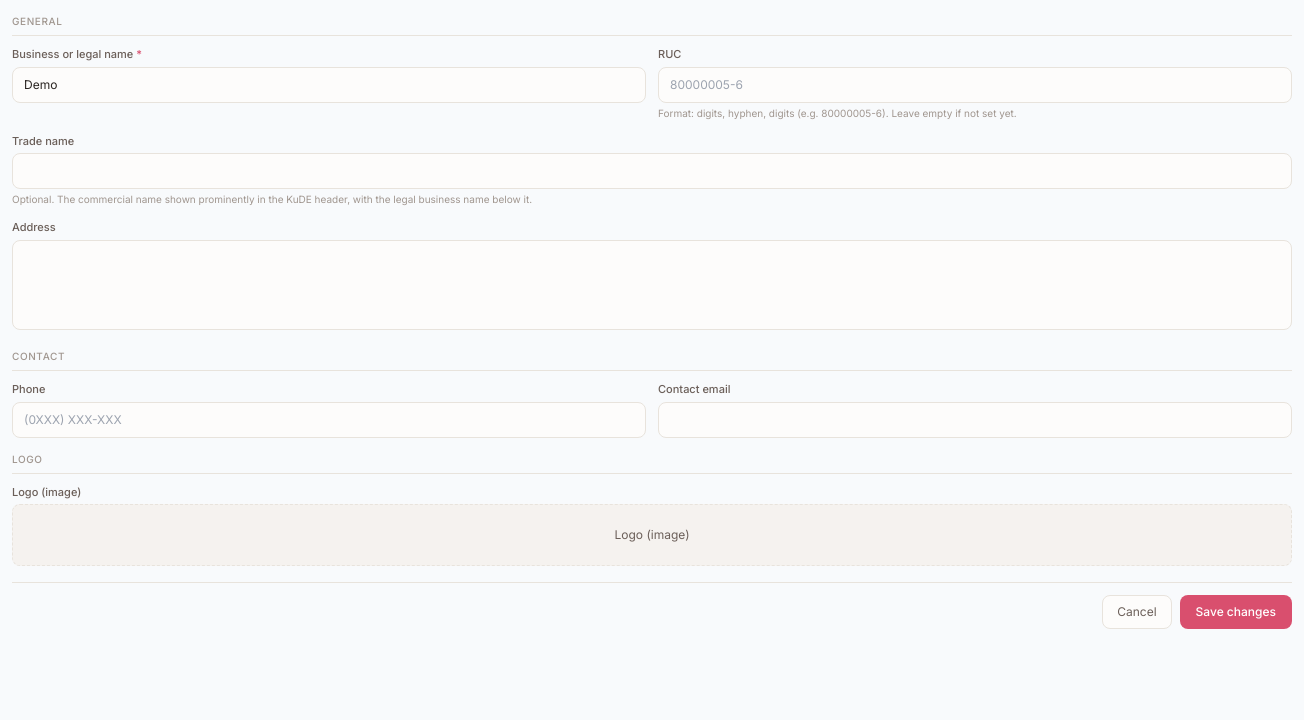
BusinessSettingsPage › formats the phone field with the Paraguay mask while typing
Click the field labelled "Phone".
click(329, 420)  # box [12,402,646,438]
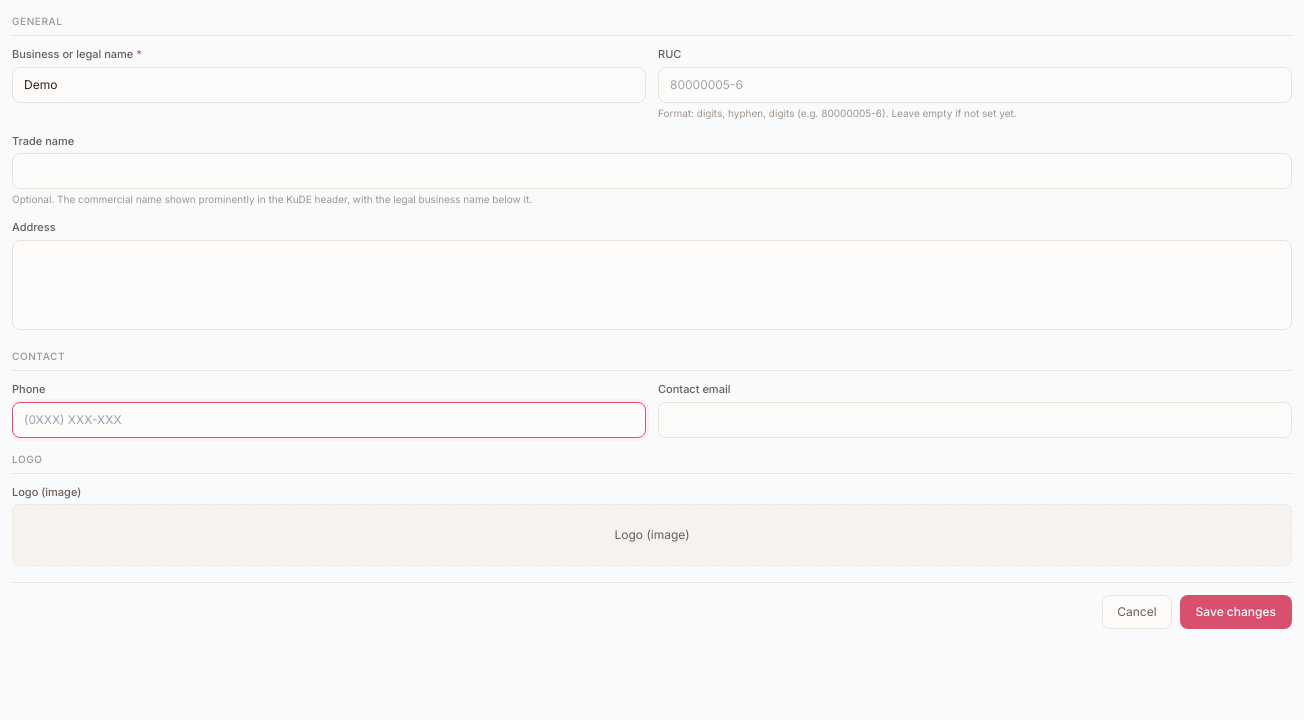
Type keys "0981123456"
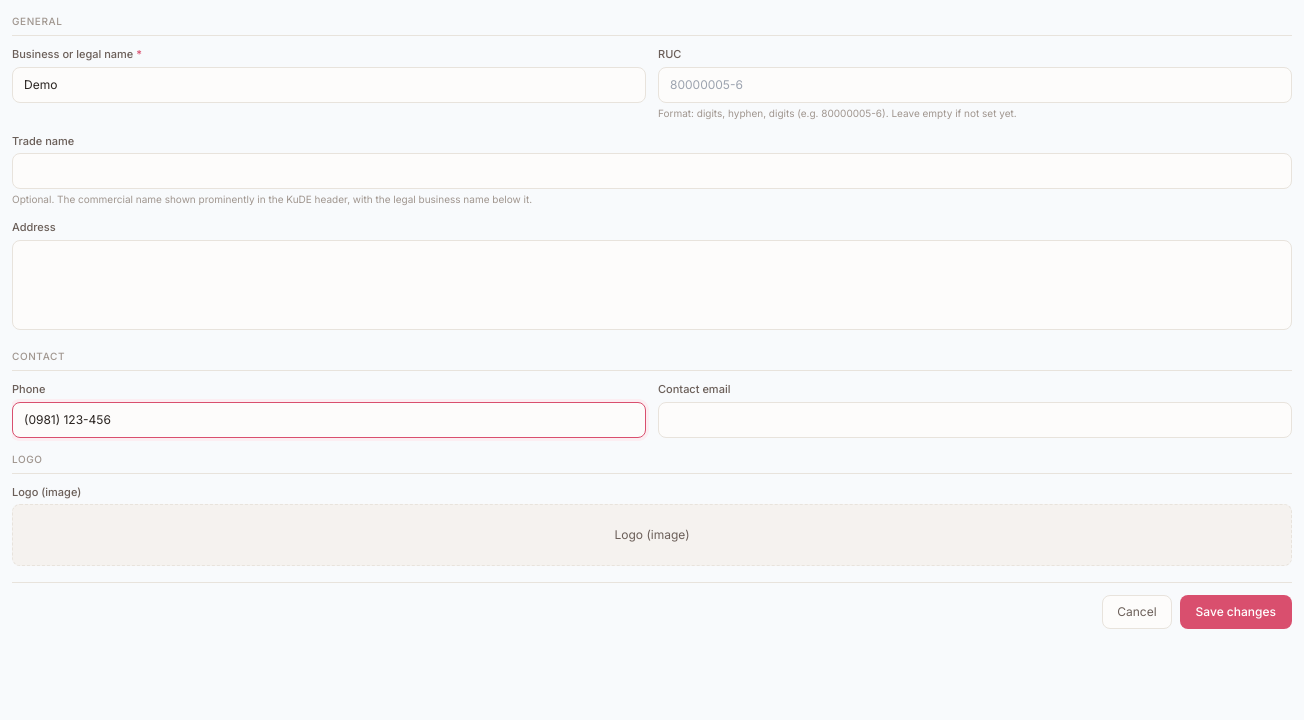
Result: the field labelled "Phone" holds "(0981) 123-456" at [12,402,646,438]
